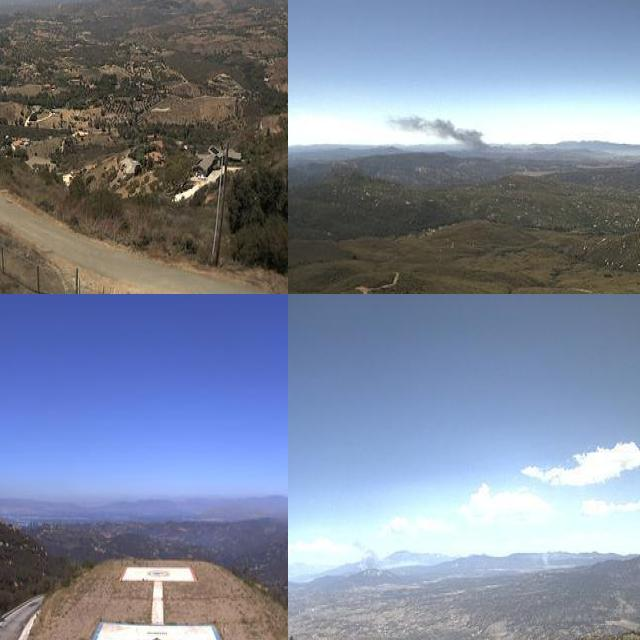smoke: (386, 106, 498, 158), (347, 534, 387, 577)
